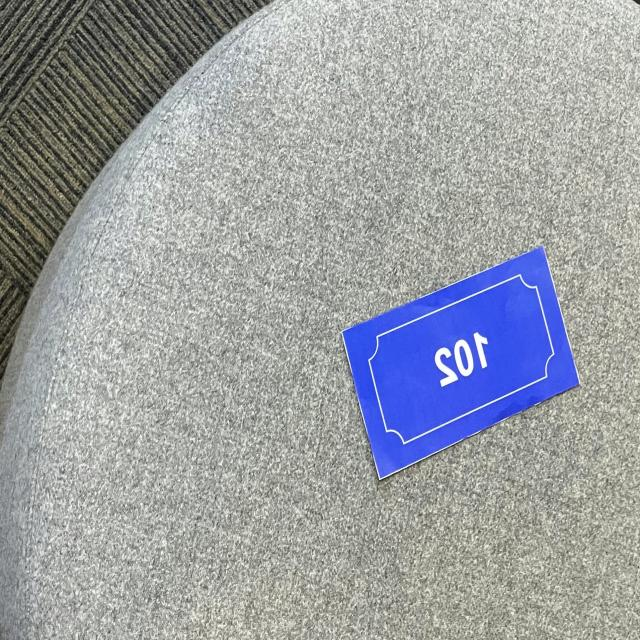Card: (330, 224, 591, 502)
